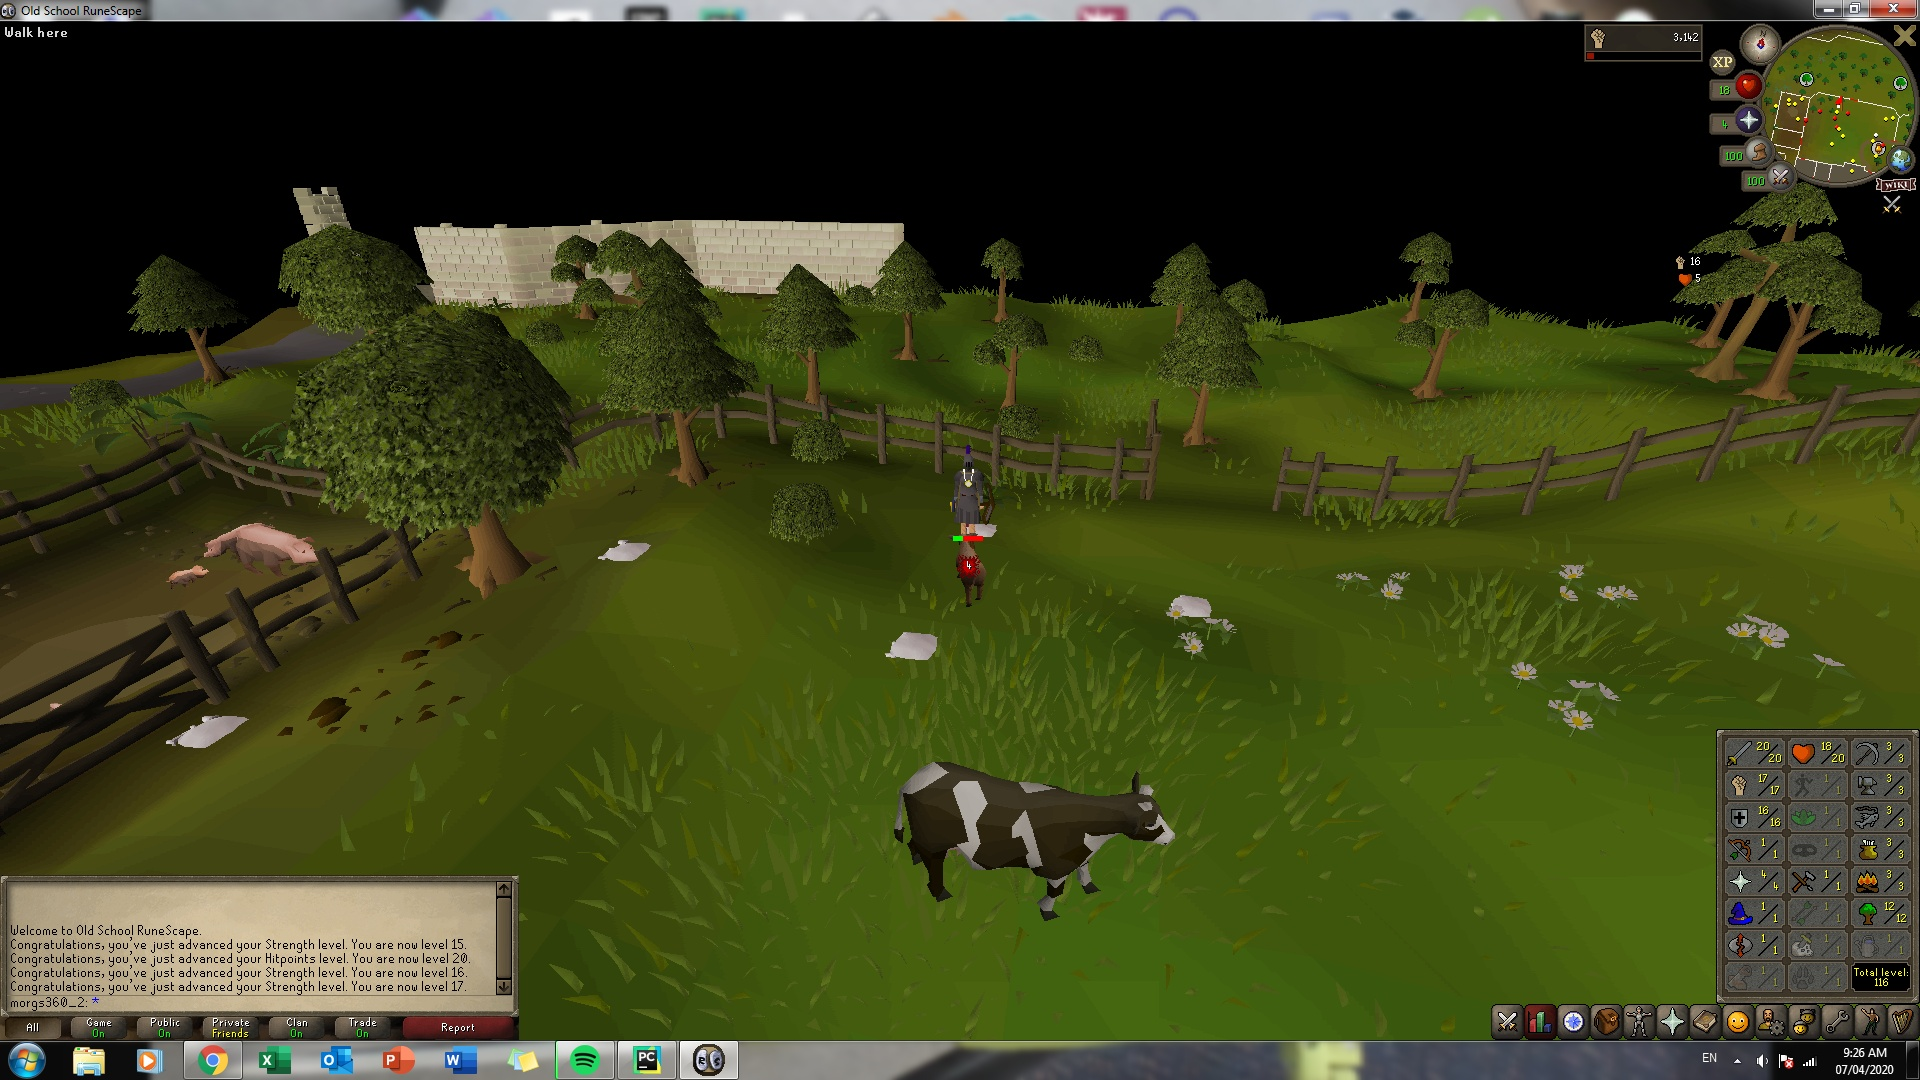cow: (892, 754, 1178, 922), (951, 536, 992, 611)
player: (944, 447, 993, 544)
